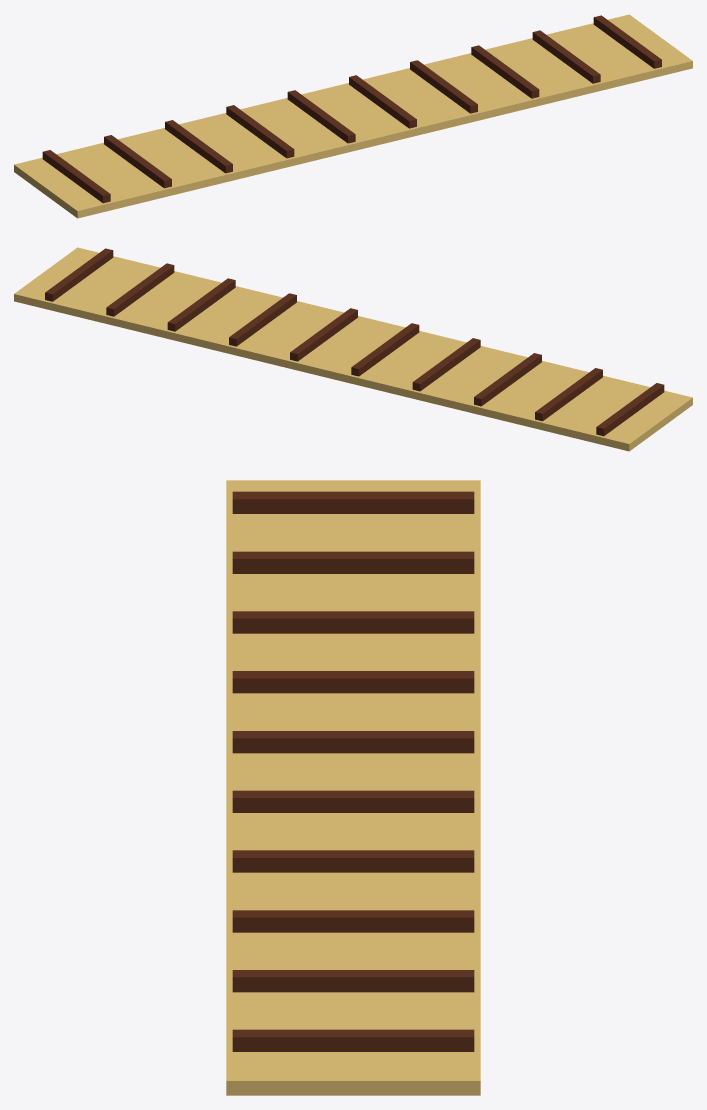
Rendered from ratLadder.fbx.
3 renders of one model, top to bottom at view 1: azimuth 30°, elevation 25°; view 2: azimuth 150°, elevation 25°; view 3: azimuth 270°, elevation 25°, orthographic. The views are drawn at different scales.
Visible parts, largest first — view 1: Rat Ladder; view 2: Rat Ladder; view 3: Rat Ladder.
Part boxes in pixels (x1,y1,x2,y2): Rat Ladder: (14,14,692,218); Rat Ladder: (14,247,692,451); Rat Ladder: (226,480,480,1095).
Size of the model in its own units: 787 by 141 by 18.15.
